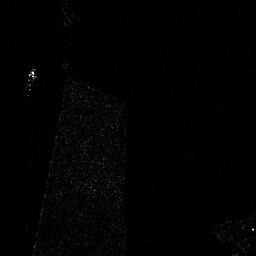ship: (23, 67, 37, 96)
